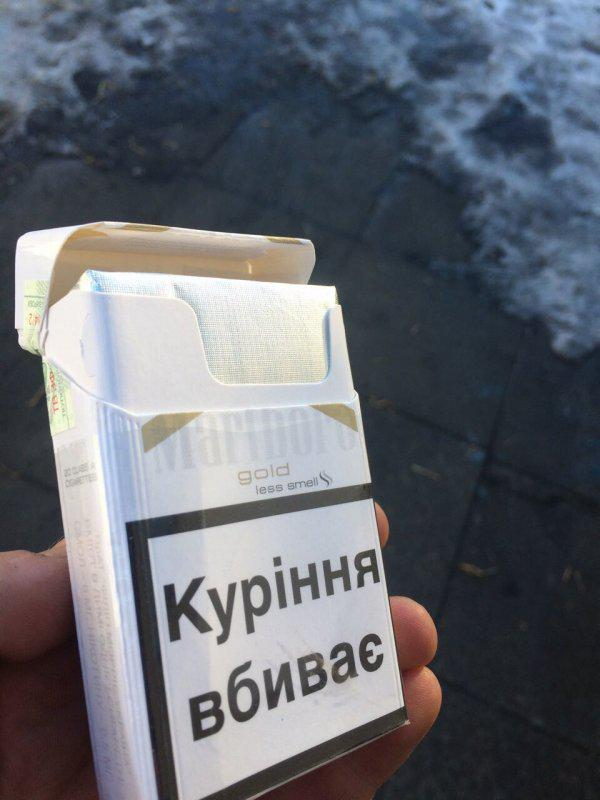marlboro_gold: (125, 329, 365, 742)
